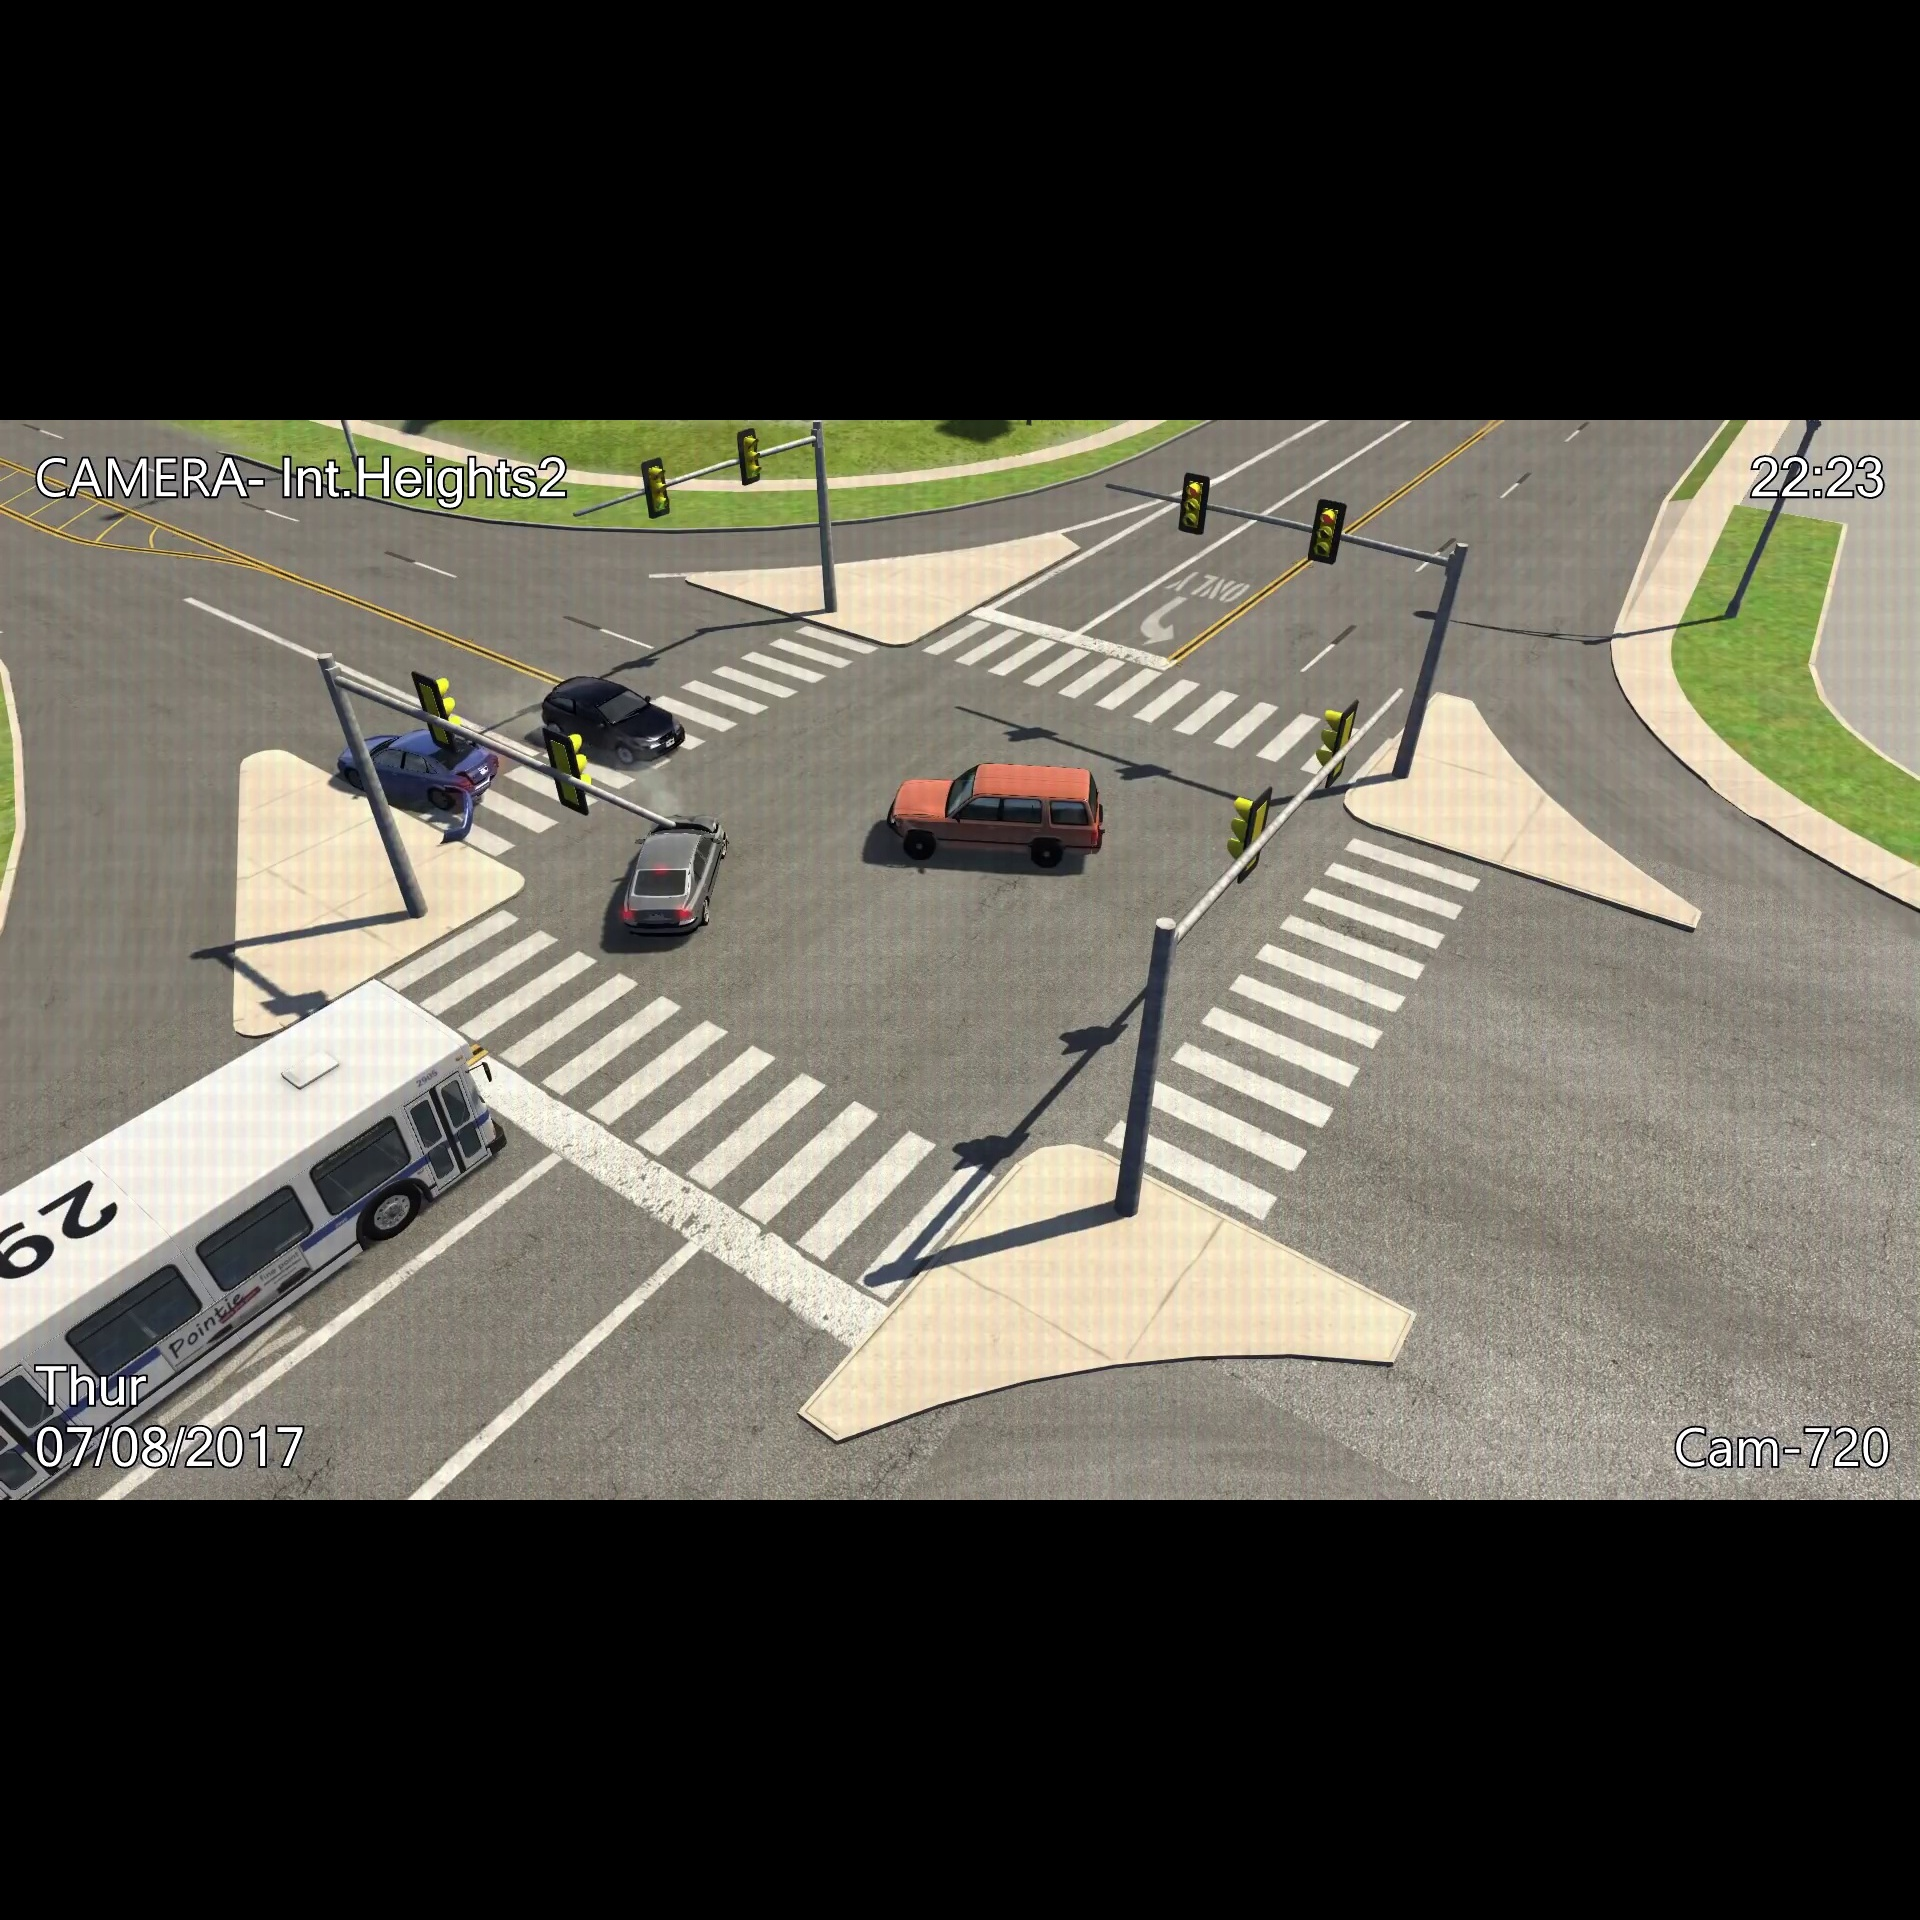vehicle: (2, 972, 506, 1500), (874, 753, 1111, 883), (331, 717, 506, 816), (615, 804, 737, 944), (538, 668, 689, 777)
